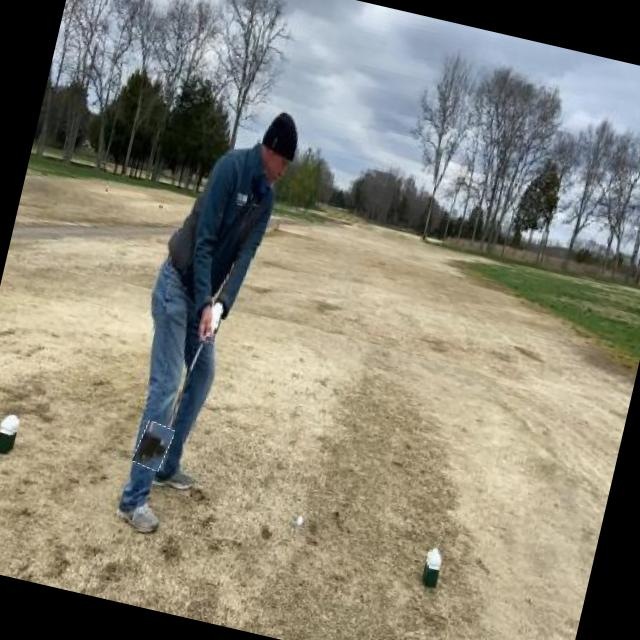club head: (133, 420, 174, 472)
